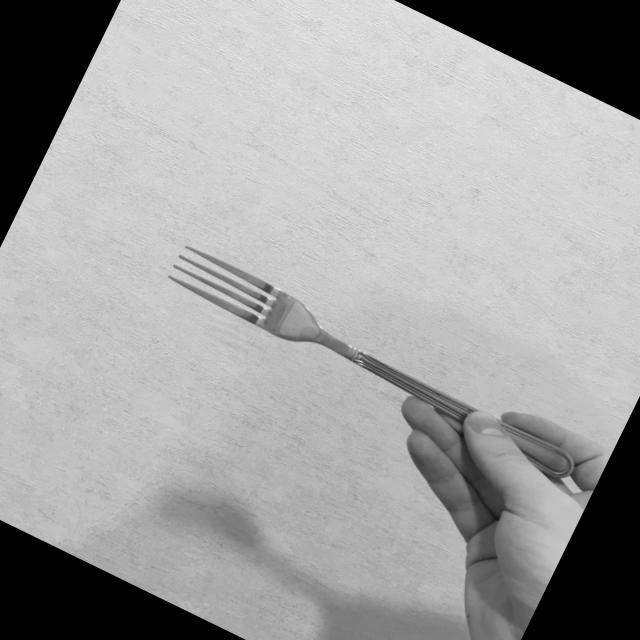fork: (162, 242, 588, 480)
